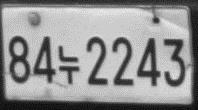2: (85, 35, 108, 85), (111, 36, 134, 86)
3: (162, 37, 185, 87)
4: (136, 36, 161, 86), (32, 35, 56, 83)
8: (8, 35, 31, 83)
누: (57, 45, 79, 85)
